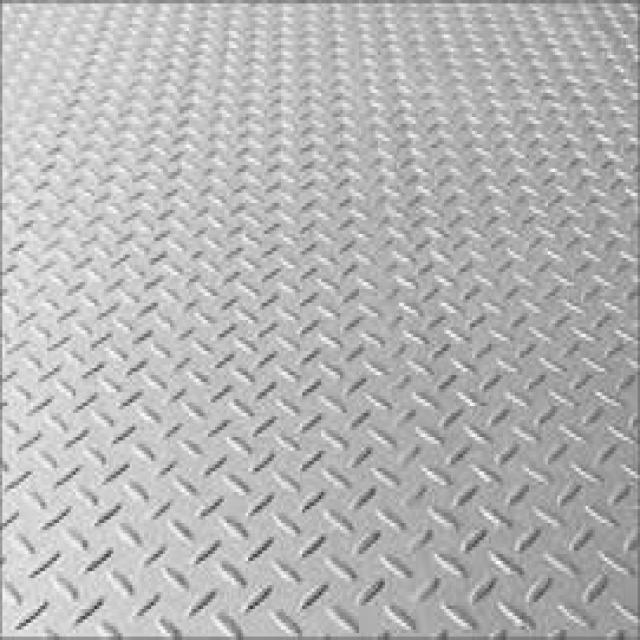Dry: (2, 10, 640, 633)
